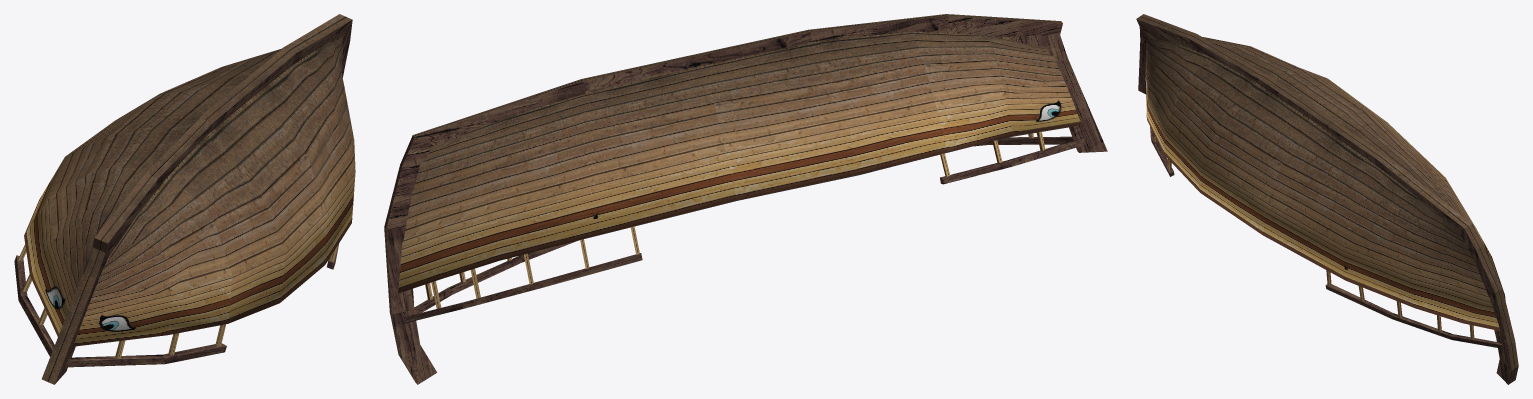
The model's file is shipwreck_hull_2.dae.
3 renders of one model, left to right at view 1: azimuth 30°, elevation 25°; view 2: azimuth 150°, elevation 25°; view 3: azimuth 270°, elevation 25°, orthographic. The views are drawn at different scales.
Visible parts, largest first — view 1: Cube01; view 2: Cube01; view 3: Cube01.
Boxes of the visible parts, x1,y1,x2,y2 form: Cube01: (14, 14, 355, 384); Cube01: (384, 14, 1107, 384); Cube01: (1136, 14, 1518, 384).
Size of the model in its own units: 18.93 by 10.88 by 16.54.
